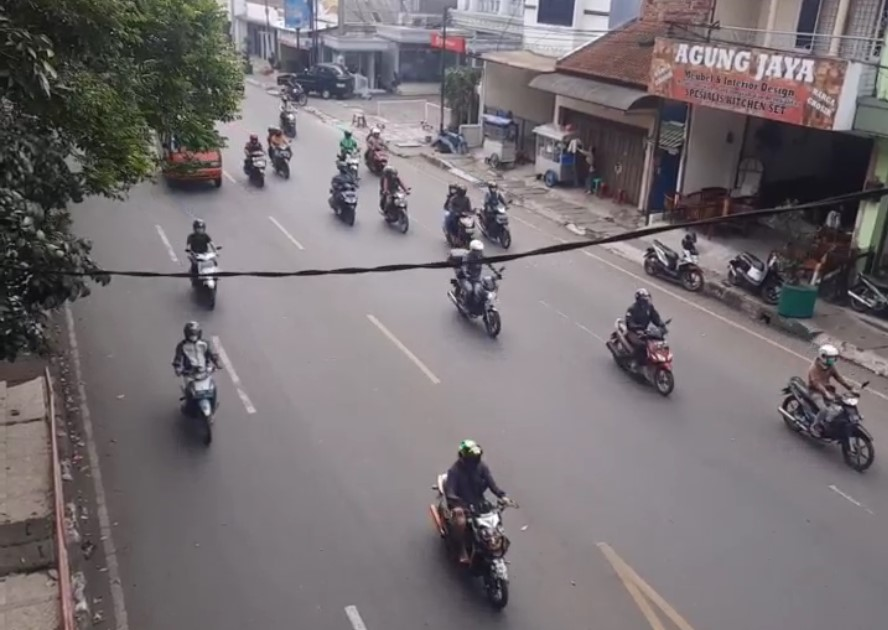motor: (434, 435, 529, 610), (782, 338, 875, 474), (609, 286, 680, 397), (171, 323, 229, 444), (446, 244, 510, 338), (179, 217, 225, 303), (435, 181, 478, 254), (475, 179, 516, 253), (375, 165, 412, 230), (327, 163, 361, 227), (265, 124, 295, 180), (241, 133, 268, 184)
